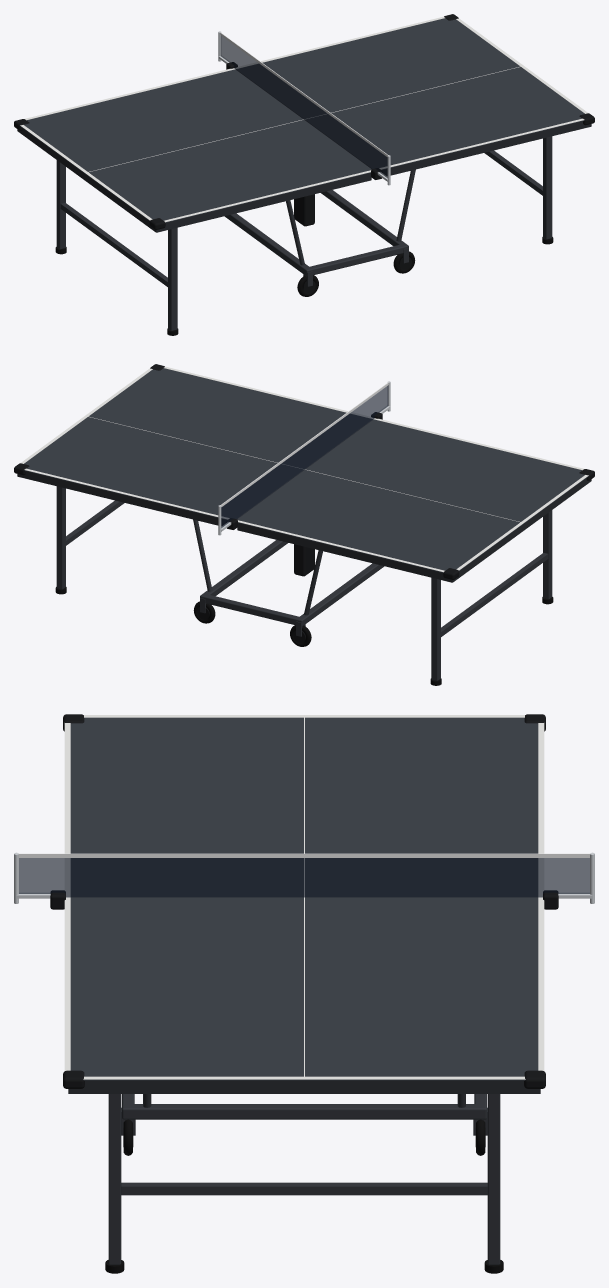
The model's file is platte-outdoor-anthrazit.glb.
3 views of the same model, one above another, from view 1: azimuth 30°, elevation 25°; view 2: azimuth 150°, elevation 25°; view 3: azimuth 270°, elevation 25° (orthographic). The views are drawn at different scales.
Parts seen in each view (by area): view 1: Platte (×2), Hälfte A, Netz, Beine (×2), Fahrwerk, Hälfte B, Tischtennisplatte; view 2: Platte (×2), Hälfte A, Netz, Beine (×2), Fahrwerk, Hälfte B, Tischtennisplatte; view 3: Platte (×2), Netz, Hälfte B, Beine, Fahrwerk, Hälfte A.
Part boxes in pixels (left/top/right/bottom): Platte (×2): left=20, top=18, right=584, bottom=222; Hälfte A: left=14, top=68, right=371, bottom=232; Netz: left=218, top=31, right=390, bottom=185; Beine (×2): left=55, top=136, right=553, bottom=335; Fahrwerk: left=224, top=190, right=415, bottom=296; Hälfte B: left=235, top=14, right=594, bottom=175; Tischtennisplatte: left=286, top=169, right=415, bottom=265; Platte (×2): left=24, top=368, right=588, bottom=572; Hälfte A: left=237, top=418, right=594, bottom=582; Netz: left=218, top=381, right=390, bottom=535; Beine (×2): left=55, top=486, right=553, bottom=685; Fahrwerk: left=193, top=540, right=384, bottom=646; Hälfte B: left=14, top=364, right=373, bottom=525; Tischtennisplatte: left=193, top=519, right=322, bottom=615; Platte (×2): left=70, top=717, right=538, bottom=1080; Netz: left=14, top=852, right=594, bottom=909; Hälfte B: left=63, top=897, right=545, bottom=1093; Beine: left=105, top=1094, right=503, bottom=1273; Fahrwerk: left=121, top=1094, right=487, bottom=1155; Hälfte A: left=63, top=714, right=545, bottom=896.
Bounding box in the file's own units: 2.75 × 0.9125 × 1.85.
